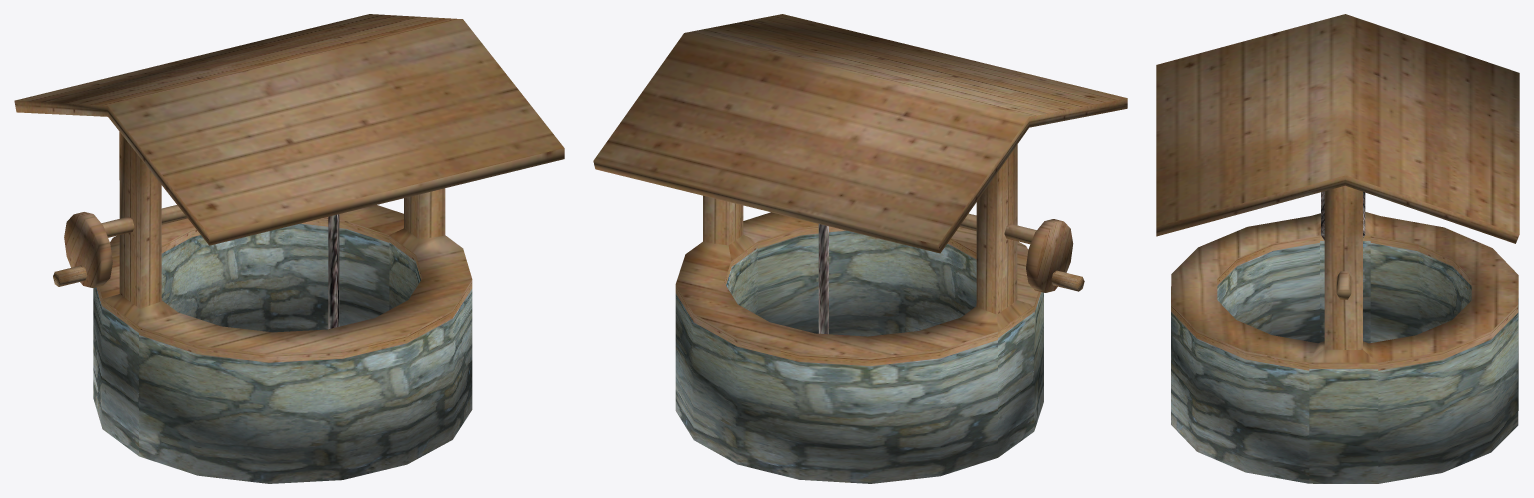
The model's file is well.obj.
3 views of the same model, side by side, from view 1: azimuth 30°, elevation 25°; view 2: azimuth 150°, elevation 25°; view 3: azimuth 270°, elevation 25° (orthographic). The views are drawn at different scales.
Bounding box in the file's own units: 92.08 × 72.18 × 74.89.
Materials: 1 (1 with a texture image).
